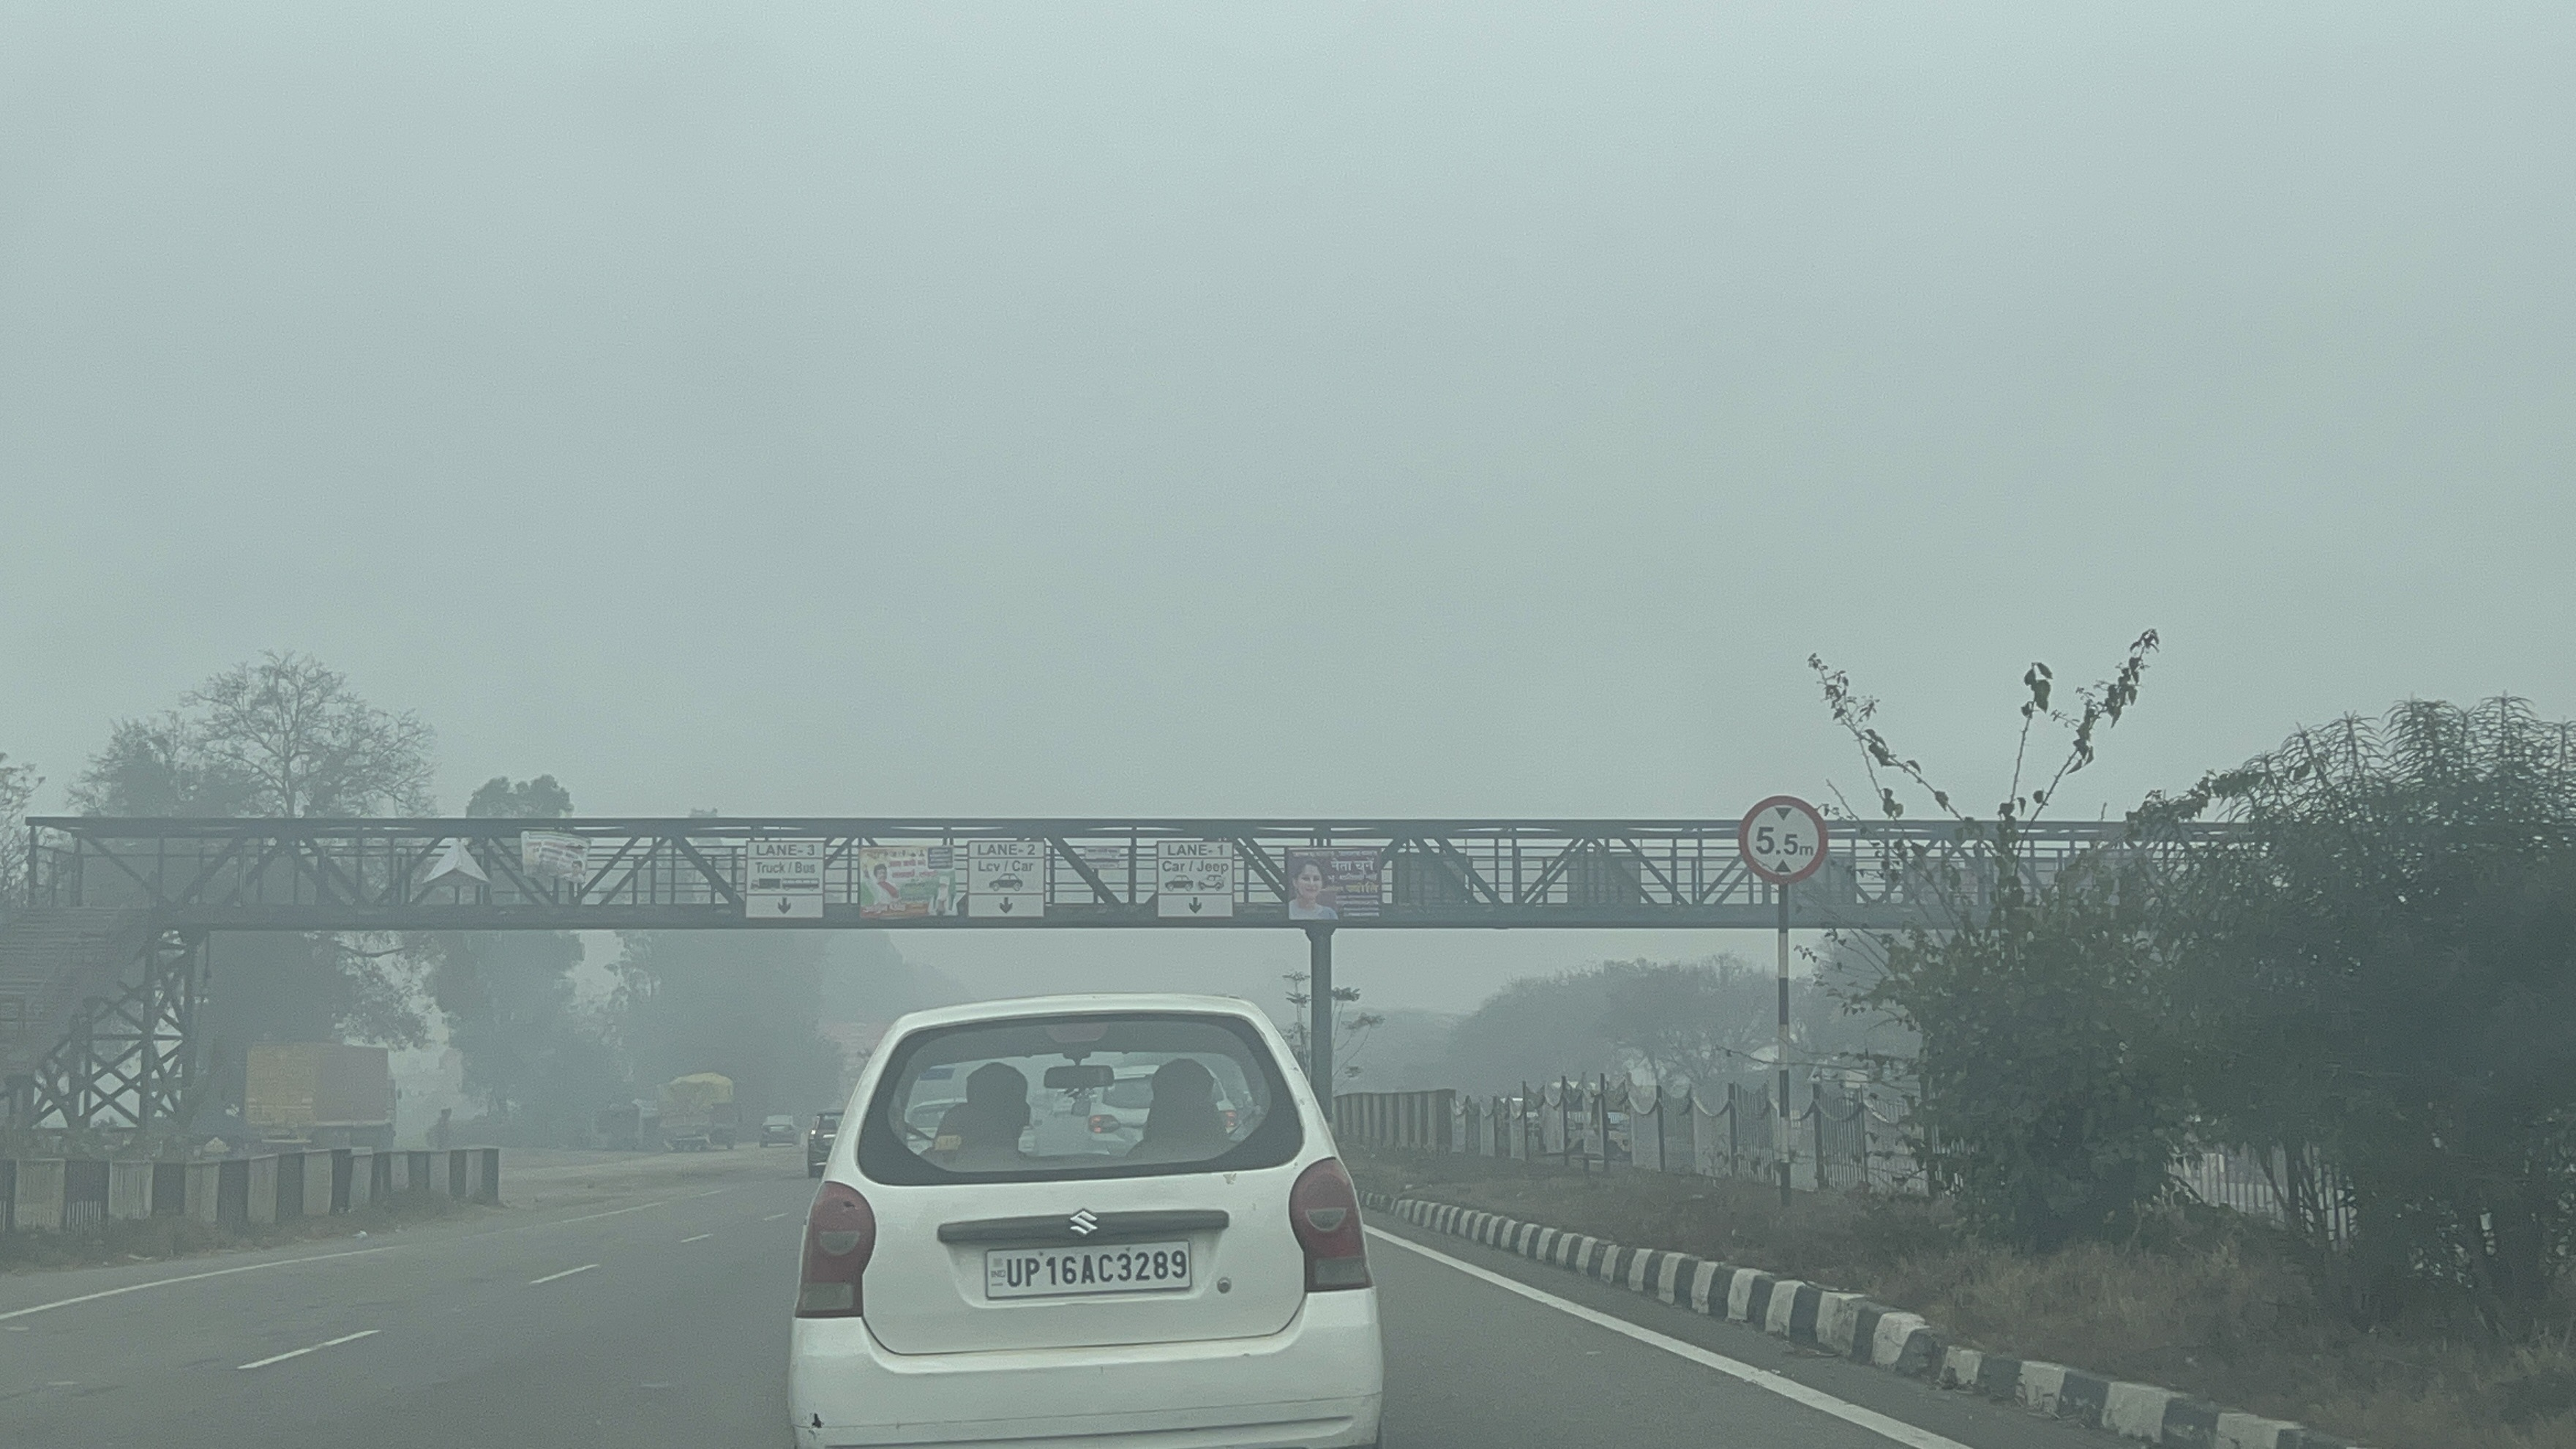Mandatory: (1723, 777, 1842, 901)
